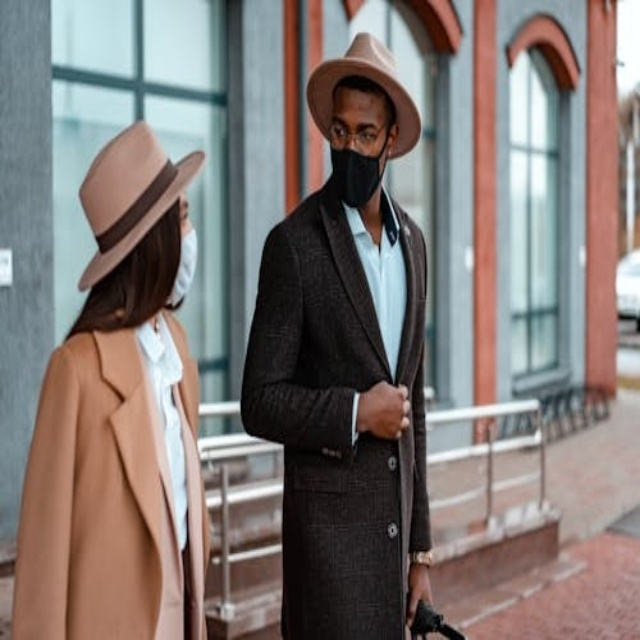Gafas: (325, 115, 385, 148)
Mascara: (331, 133, 389, 208), (168, 222, 198, 309)
Sin_gafas: (170, 194, 198, 229)
Sin_guantes: (347, 357, 413, 440), (406, 562, 434, 626)
